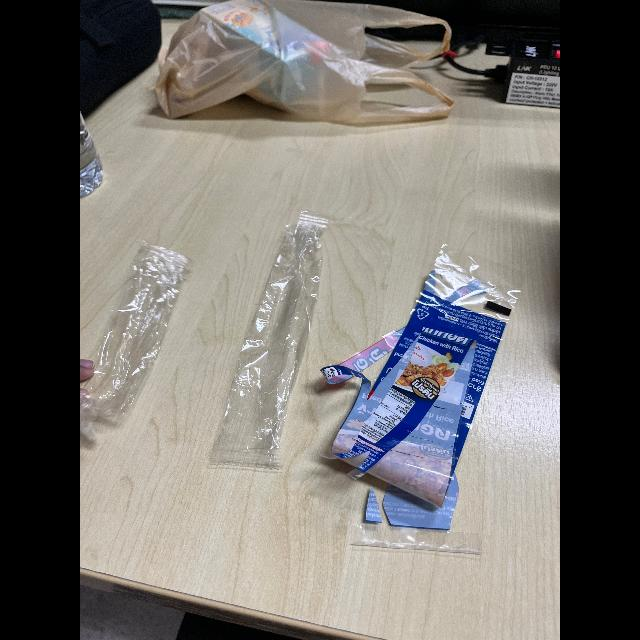scrap_plastic: (336, 222, 526, 574), (205, 203, 335, 495), (80, 228, 194, 460)
